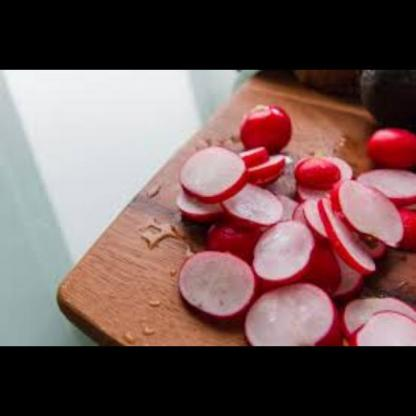rediska: (169, 131, 415, 344), (234, 102, 307, 154), (358, 116, 415, 166)
